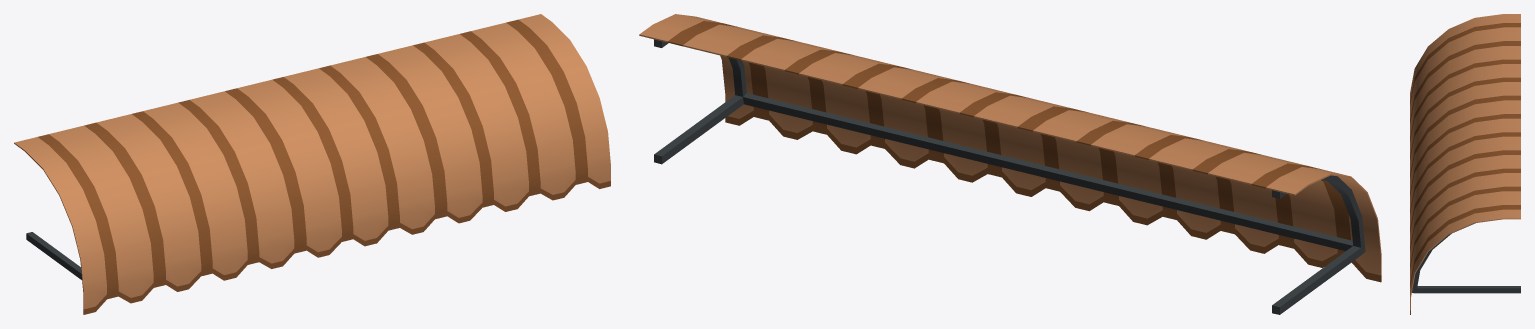
File: SM_BuildingsDecor_37.fbx
3 renders of one model, left to right at view 1: azimuth 30°, elevation 25°; view 2: azimuth 150°, elevation 25°; view 3: azimuth 270°, elevation 25°, orthographic. The views are drawn at different scales.
Parts seen in each view (by area): view 1: SM_BuildingsDecor_37; view 2: SM_BuildingsDecor_37; view 3: SM_BuildingsDecor_37.
Boxes of the visible parts, left/top/right/bottom form: SM_BuildingsDecor_37: left=14, top=14, right=610, bottom=314; SM_BuildingsDecor_37: left=639, top=14, right=1381, bottom=314; SM_BuildingsDecor_37: left=1410, top=14, right=1520, bottom=314.
Size of the model in its own units: 5 by 1.1 by 1.15.
